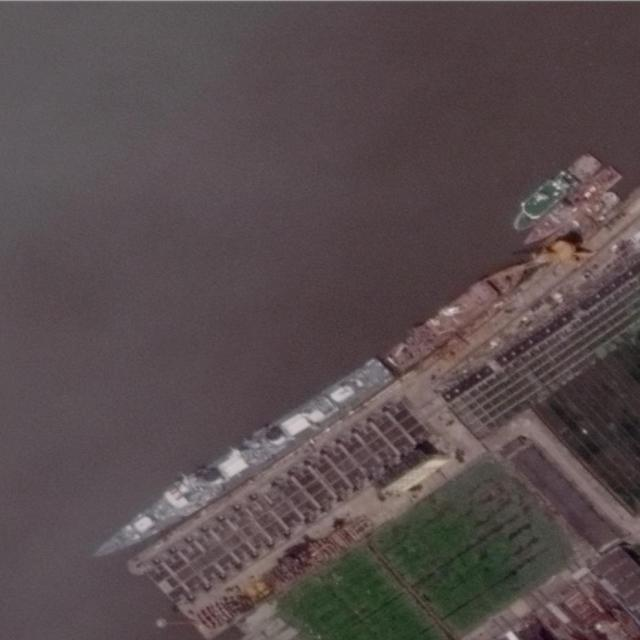Destroyer: (82, 353, 393, 566)
Other Ship: (504, 146, 602, 235)
Other Warship: (383, 250, 534, 375), (517, 164, 616, 255)
